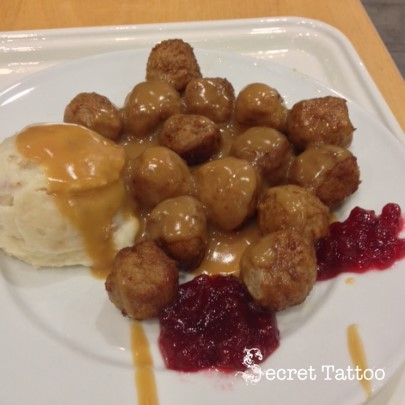meatballs: (134, 84, 340, 224), (244, 232, 317, 301), (119, 243, 165, 308)
